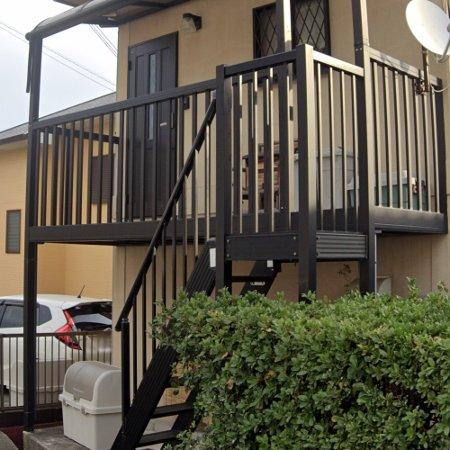stairs: (112, 100, 217, 450), (226, 253, 279, 289)
